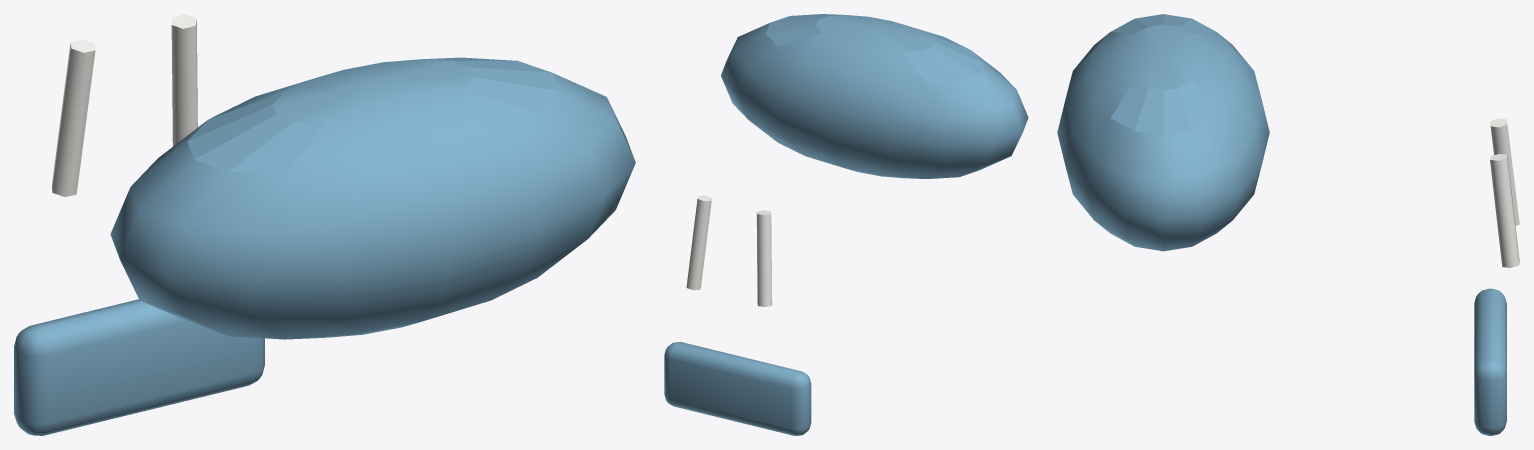
Rendered from Top_Hoodie.fbx.
3 views of the same model, side by side, from view 1: azimuth 30°, elevation 25°; view 2: azimuth 150°, elevation 25°; view 3: azimuth 270°, elevation 25° (orthographic). The views are drawn at different scales.
Parts seen in each view (by area): view 1: Hood, Pocket, Hood_String.001, Hood_String; view 2: Hood, Pocket, Hood_String.001, Hood_String; view 3: Hood, Pocket, Hood_String, Hood_String.001.
Boxes of the visible parts, left/top/right/bottom form: Hood: left=110, top=57, right=635, bottom=339; Pocket: left=14, top=299, right=264, bottom=435; Hood_String.001: left=51, top=39, right=95, bottom=196; Hood_String: left=171, top=14, right=197, bottom=146; Hood: left=721, top=14, right=1028, bottom=178; Pocket: left=664, top=342, right=811, bottom=435; Hood_String.001: left=756, top=210, right=772, bottom=306; Hood_String: left=686, top=195, right=711, bottom=290; Hood: left=1057, top=14, right=1269, bottom=251; Pocket: left=1474, top=288, right=1506, bottom=435; Hood_String: left=1490, top=154, right=1519, bottom=267; Hood_String.001: left=1490, top=118, right=1519, bottom=225.
Size of the model in its own units: 50 by 47 by 56.57.
